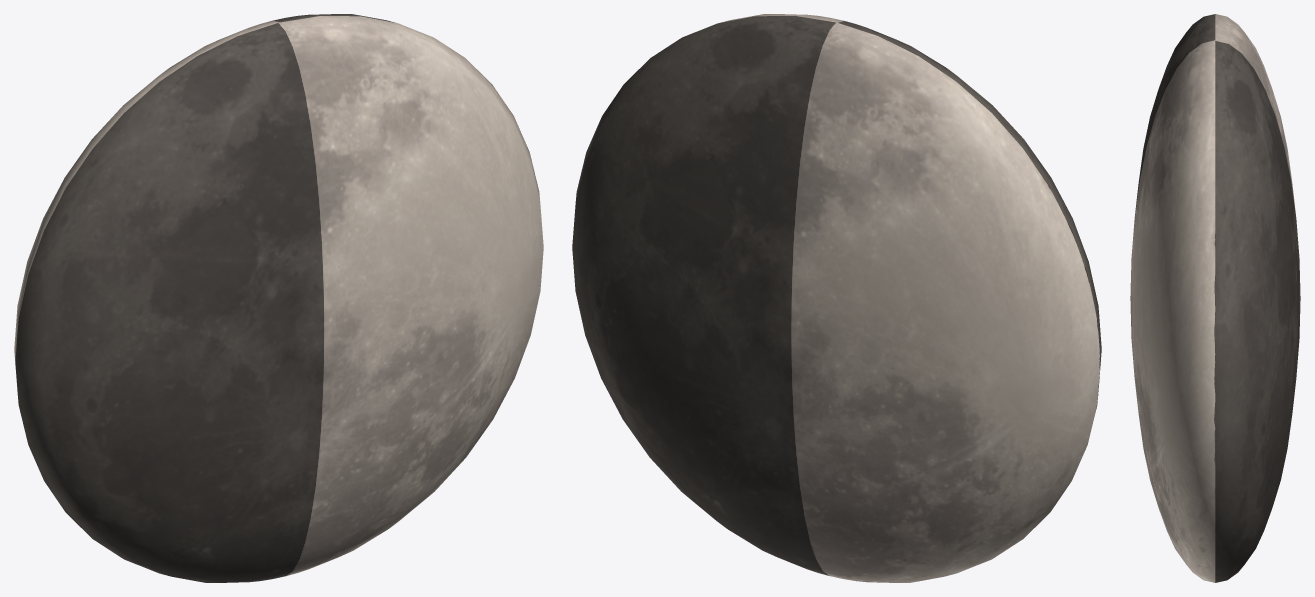
Rendered from SM_MoonPhase3_FirstQuarter.fbx.
The picture shows the model from 3 angles, left to right: view 1: azimuth 30°, elevation 25°; view 2: azimuth 150°, elevation 25°; view 3: azimuth 270°, elevation 25°; orthographic projection. The views are drawn at different scales.
Visible parts, largest first — view 1: pSphere2; view 2: pSphere2; view 3: pSphere2.
Boxes of the visible parts, left/top/right/bottom form: pSphere2: left=14, top=14, right=543, bottom=582; pSphere2: left=572, top=14, right=1101, bottom=582; pSphere2: left=1130, top=14, right=1300, bottom=582.
Bounding box in the file's own units: 158 × 158 × 47.13.
